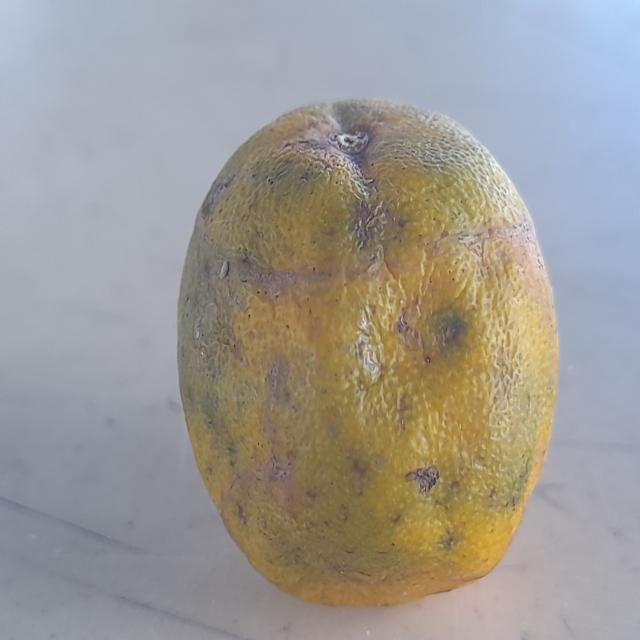black spot: (169, 105, 560, 600)
